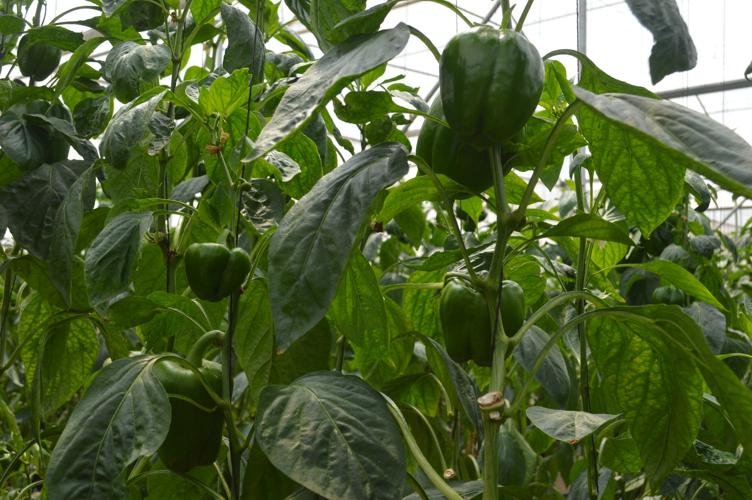BellPepper: (439, 28, 541, 147), (417, 101, 515, 204), (148, 355, 229, 472), (432, 279, 526, 371), (179, 242, 251, 304)
